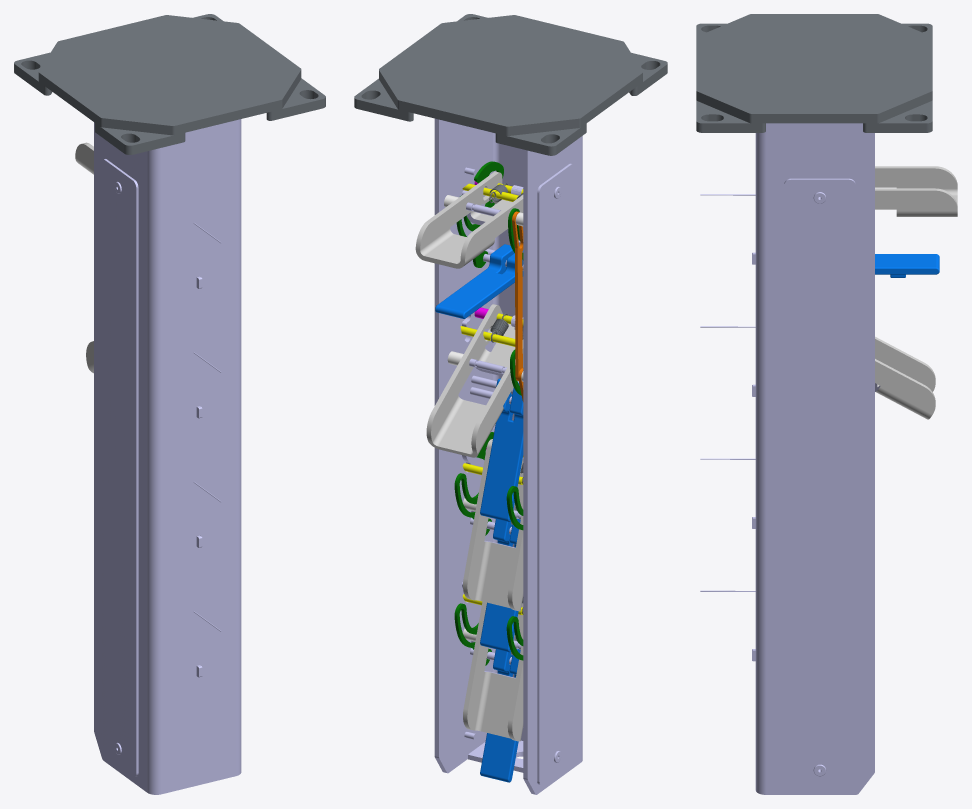
File: Sin nombre-AGR_V3_POS1.gltf
3 renders of one model, left to right at view 1: azimuth 30°, elevation 25°; view 2: azimuth 150°, elevation 25°; view 3: azimuth 270°, elevation 25°, orthographic. The views are drawn at different scales.
Parts seen in each view (by area): view 1: 25051-H, BASE_REGULABLE, 25051-A; view 2: 25051-H, BASE_REGULABLE, 25051-A, 25051-F001, 25051-F, 25051-F003, 25051-F002, GATILLO_CABEZA002, GATILLO_CABEZA, GATILLO_CABEZA003, GATILLO_CABEZA001, 25051-G (+3 smaller); view 3: 25051-A001, 25051-H, BASE_REGULABLE, 25051-F, 25051-F001, GATILLO_CABEZA.
Boxes of the visible parts, x1,y1,x2,y2 form: 25051-H: (94,119,241,794); BASE_REGULABLE: (14,14,325,154); 25051-A: (101,159,138,776); 25051-H: (434,118,582,794); BASE_REGULABLE: (354,14,667,155); 25051-A: (537,163,574,785); 25051-F001: (426,304,523,457); 25051-F: (415,171,523,268); 25051-F003: (463,439,523,611); 25051-F002: (463,601,523,741); GATILLO_CABEZA002: (480,378,523,521); GATILLO_CABEZA: (435,244,523,318); GATILLO_CABEZA003: (480,649,520,782); GATILLO_CABEZA001: (480,519,520,652); 25051-G: (512,211,523,380); 25051-A001: (784,178,855,787); 25051-H: (755,123,874,794); BASE_REGULABLE: (696,14,932,132); 25051-F: (875,166,957,216); 25051-F001: (875,336,935,419); GATILLO_CABEZA: (875,254,939,277).
Size of the model in its own units: 0.18 by 0.5946 by 0.1991.
